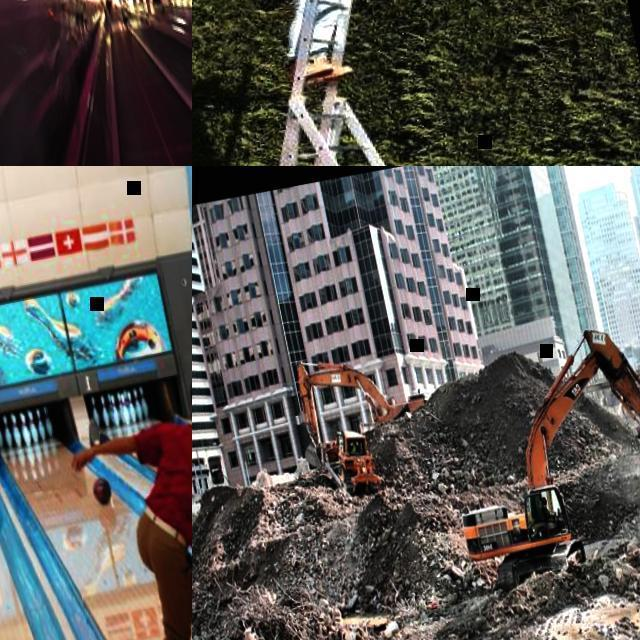no_helmet: (542, 495, 548, 502)
